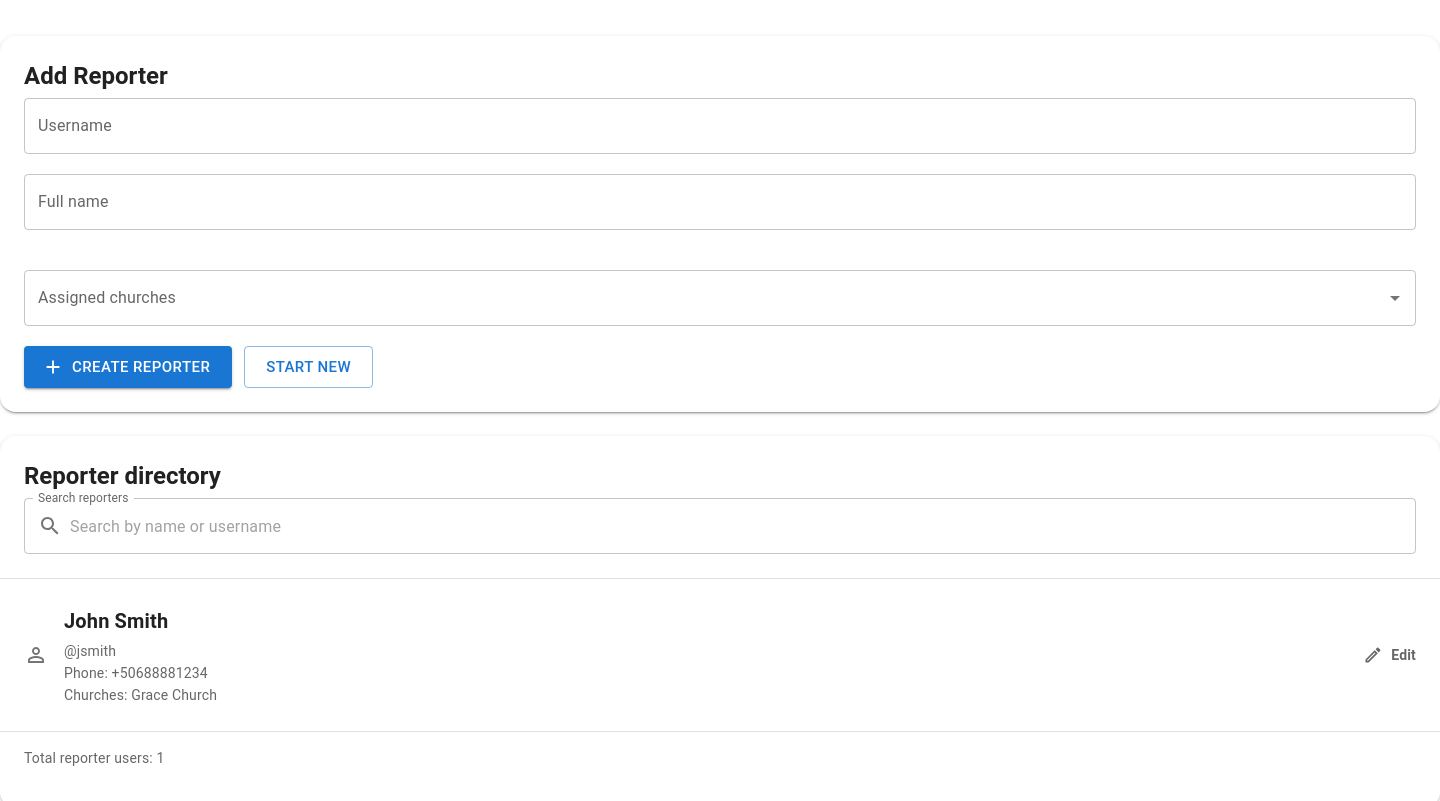
Test: ReporterUserManagementPage › populates the form when a reporter is selected and allows editing
The width and height of the screenshot is (1440, 801).
(page scrolled)
Step 1. Click the button "John Smith" → (720, 655), box [0,579,1439,731]
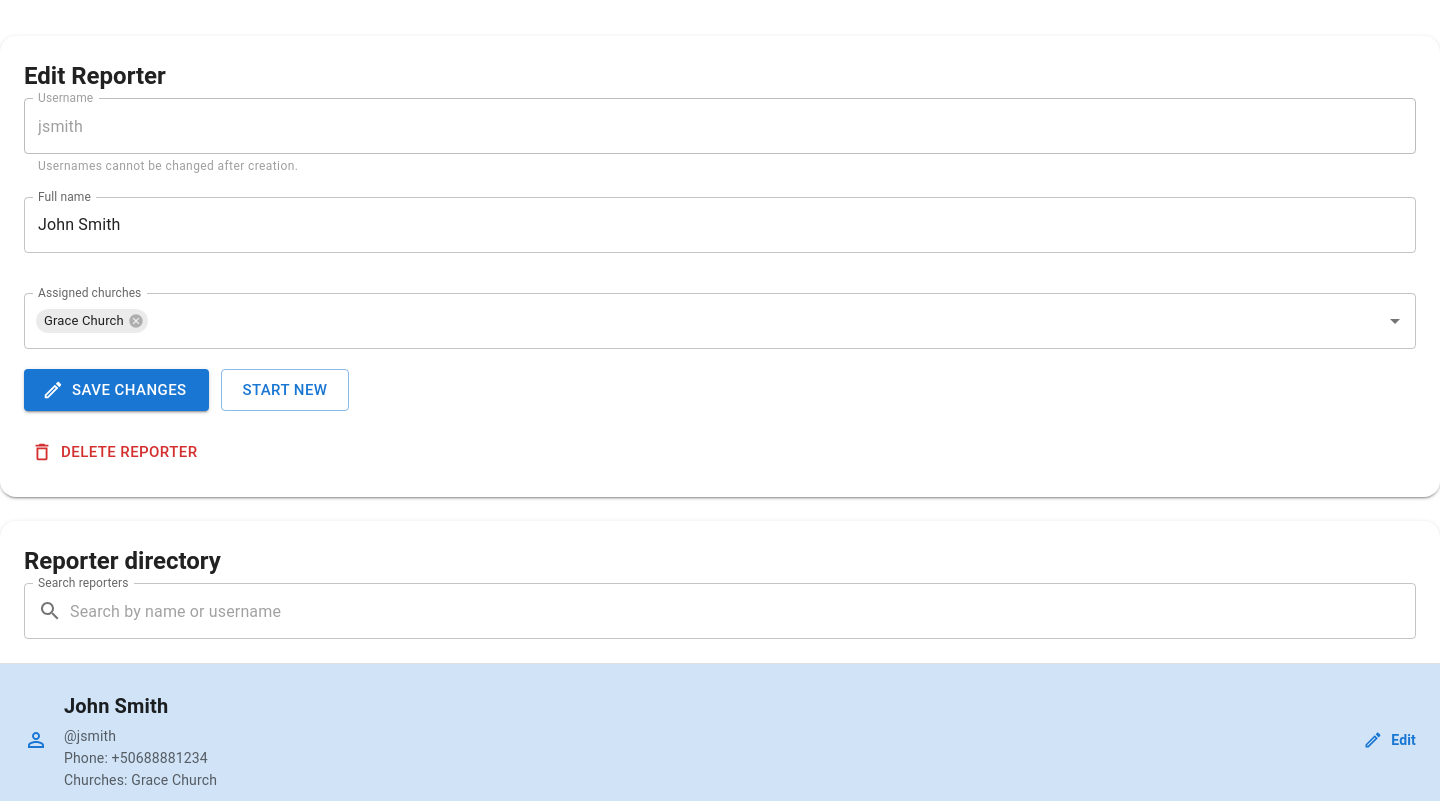
Now the field labelled "Username" is disabled, box [24,98,1416,154]
Now the field labelled "Full name" holds "John Smith"
Step 2. Replace the text in the field labelled "Full name" with "Jonathan Smith" → (720, 225), box [24,197,1416,253]
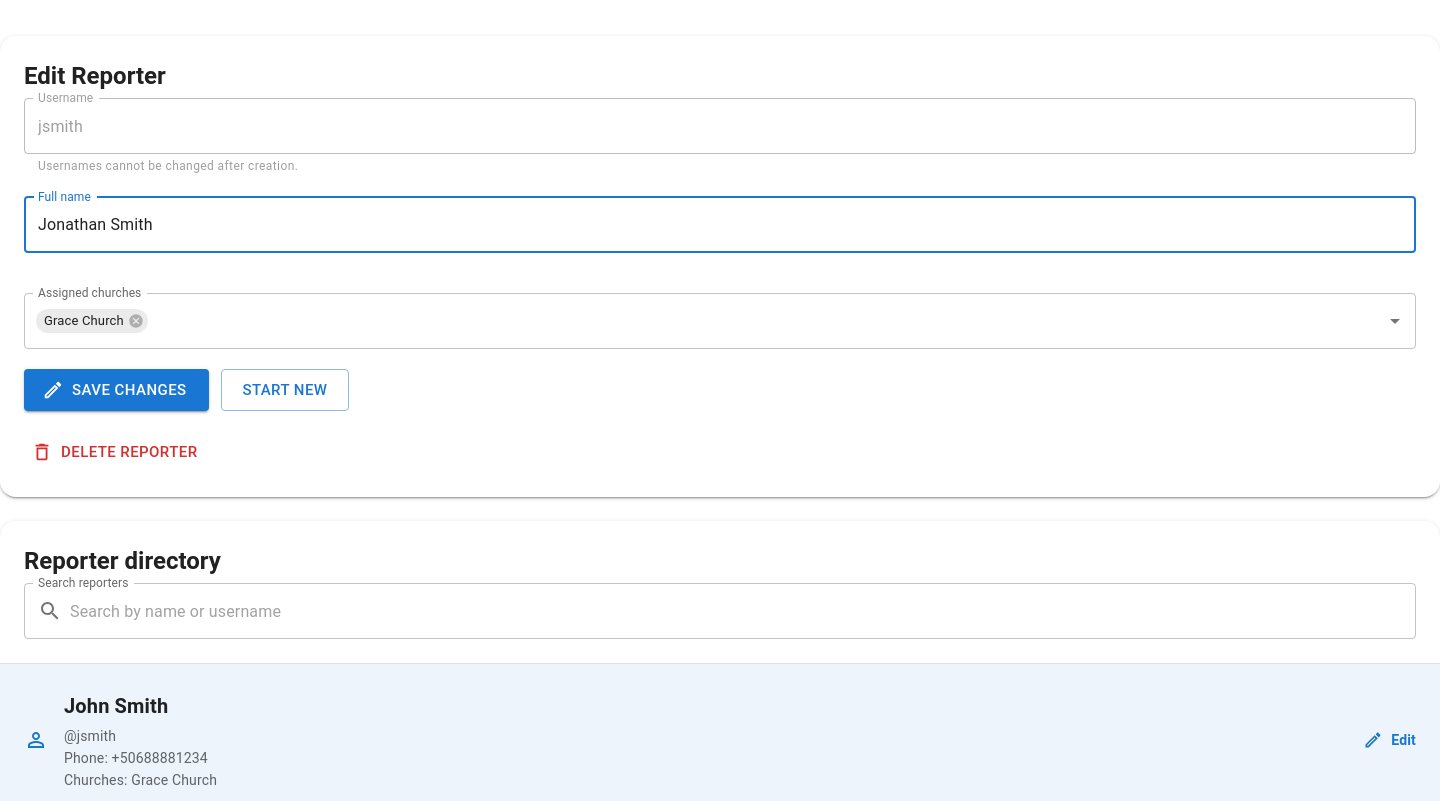
Step 3. Click the button "Save Changes" → (116, 390), box [24,369,208,411]
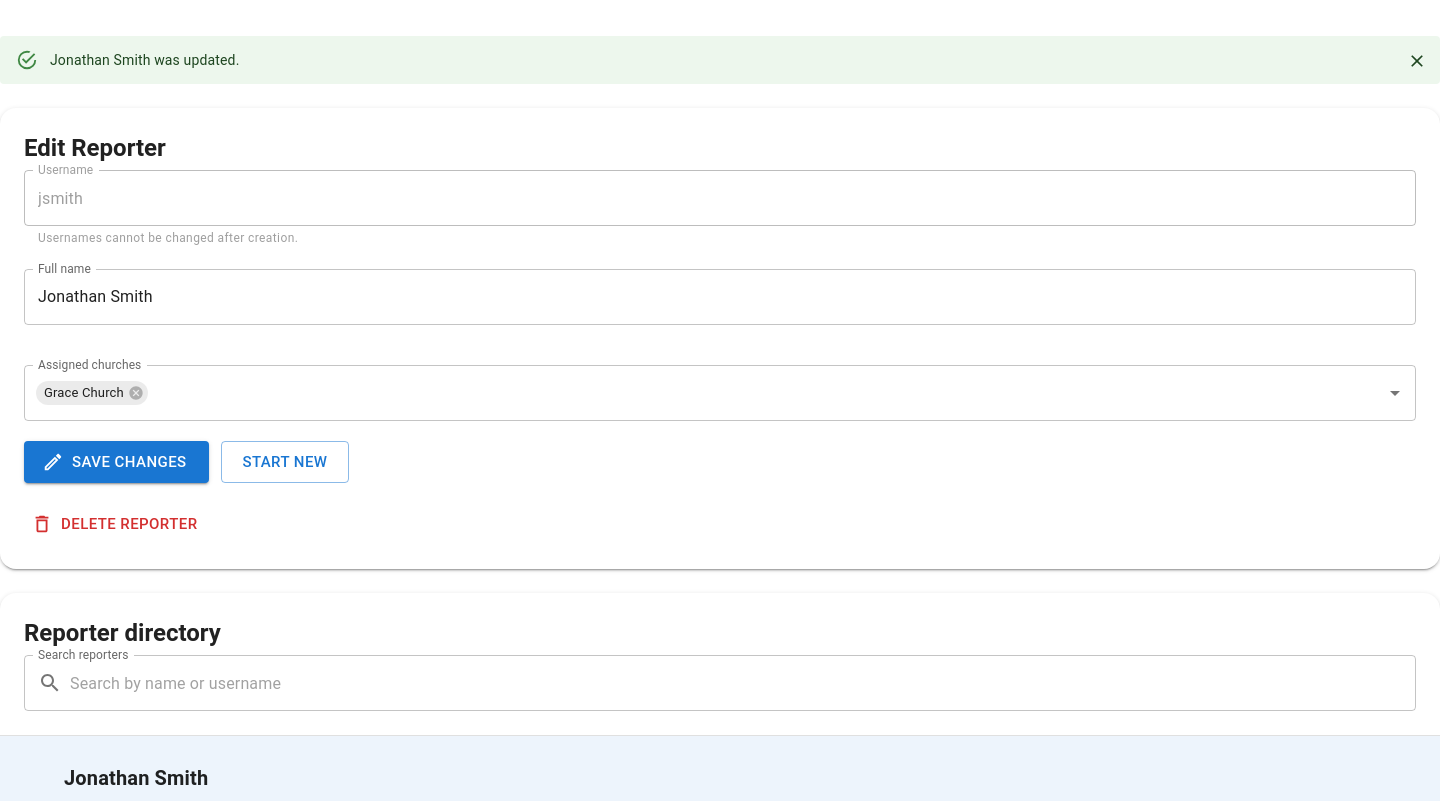
Now the text "Jonathan Smith was updated." is shown, box [50,52,240,68]
